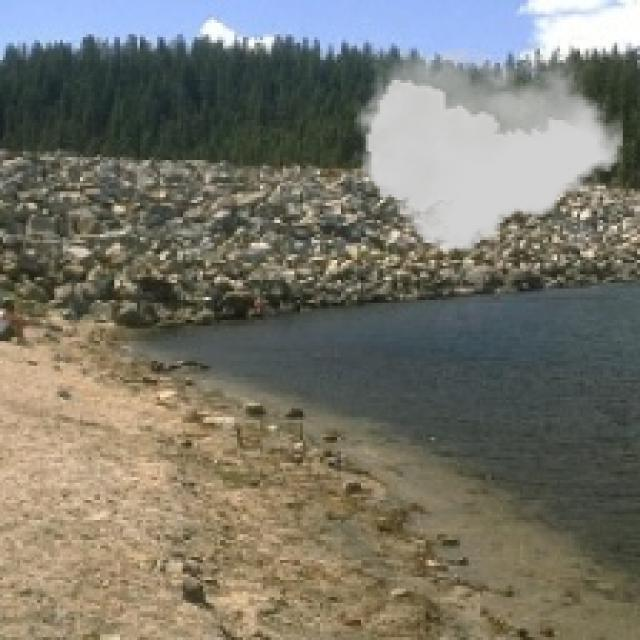Smoke: (354, 48, 623, 252)
